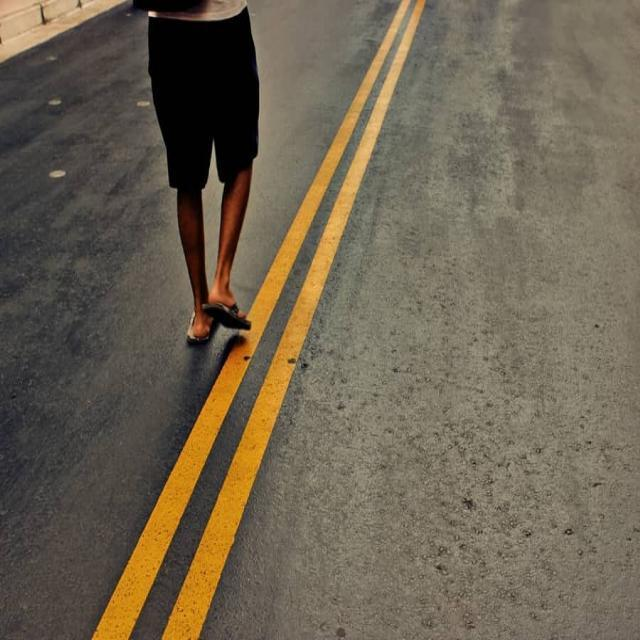No_Shoe: (208, 284, 252, 331), (186, 300, 212, 350)
